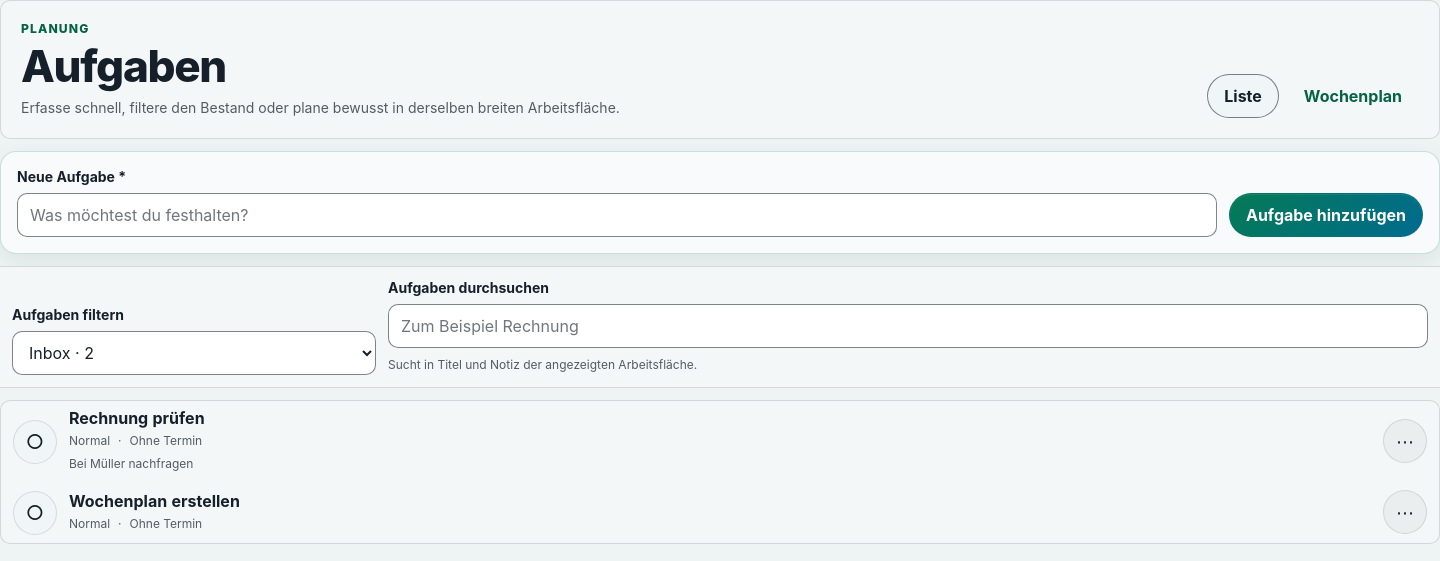
Scenario: TasksPage › finds a task by its note and keeps counts and list in step
Expected: the heading "Wochenplan erstellen" is shown, [69,491,240,511]
# Ohne Umlaut geschrieben: Die Suche vergleicht ohne Diakritika.
In the search field labelled "Aufgaben durchsuchen": [908, 326] box [388,304,1428,348], type "muller"
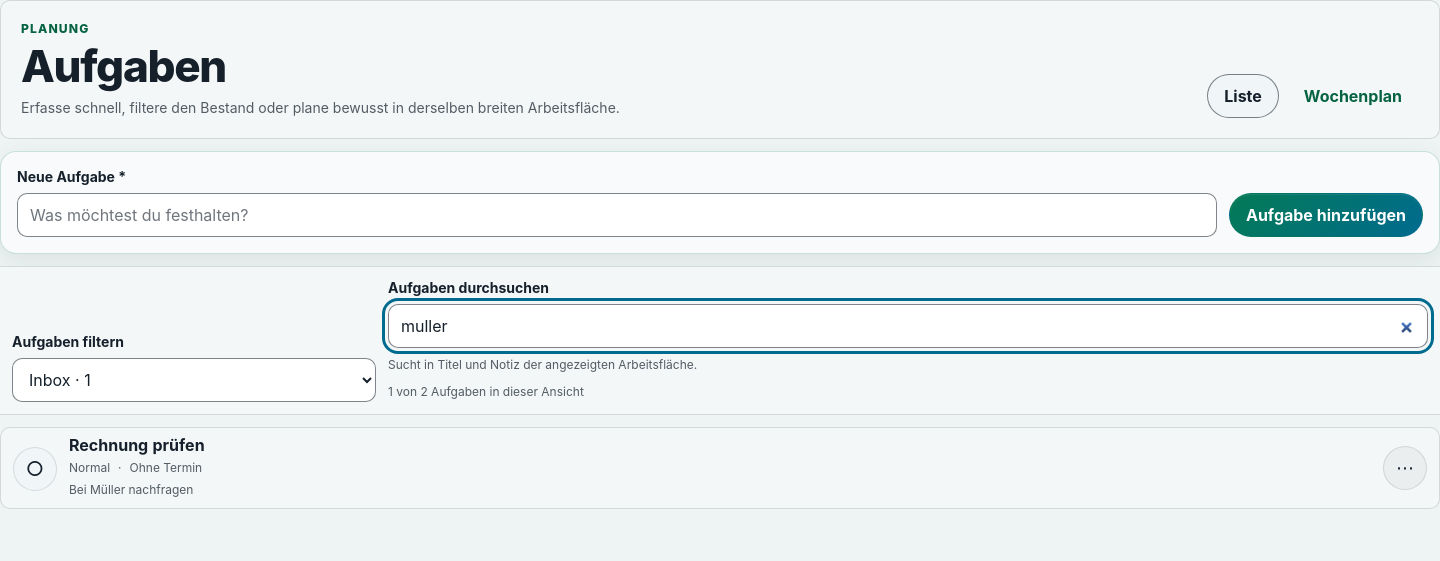
Expected: the heading "Rechnung prüfen" is shown, [69,435,205,455]
Now the text "1 von 2 Aufgaben in dieser Ansicht" is shown, box [388,384,584,399]
Now the heading "Wochenplan erstellen" is gone
